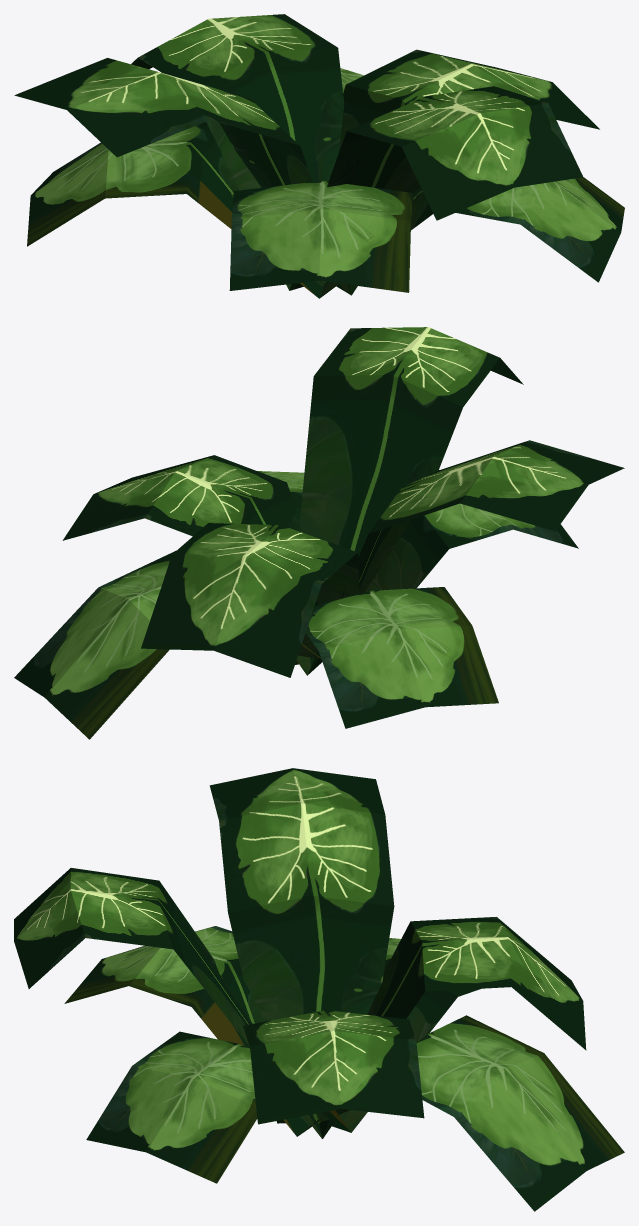
File: AlocasiaPlant1.fbx
3 renders of one model, top to bottom at view 1: azimuth 30°, elevation 25°; view 2: azimuth 150°, elevation 25°; view 3: azimuth 270°, elevation 25°, orthographic. The views are drawn at different scales.
Visible parts, largest first — view 1: AlocasiaPlant1; view 2: AlocasiaPlant1; view 3: AlocasiaPlant1.
Boxes of the visible parts, x1,y1,x2,y2 form: AlocasiaPlant1: (14,14,624,298); AlocasiaPlant1: (14,327,624,739); AlocasiaPlant1: (14,768,624,1211).
Size of the model in its own units: 1.35 by 0.6366 by 1.46.
